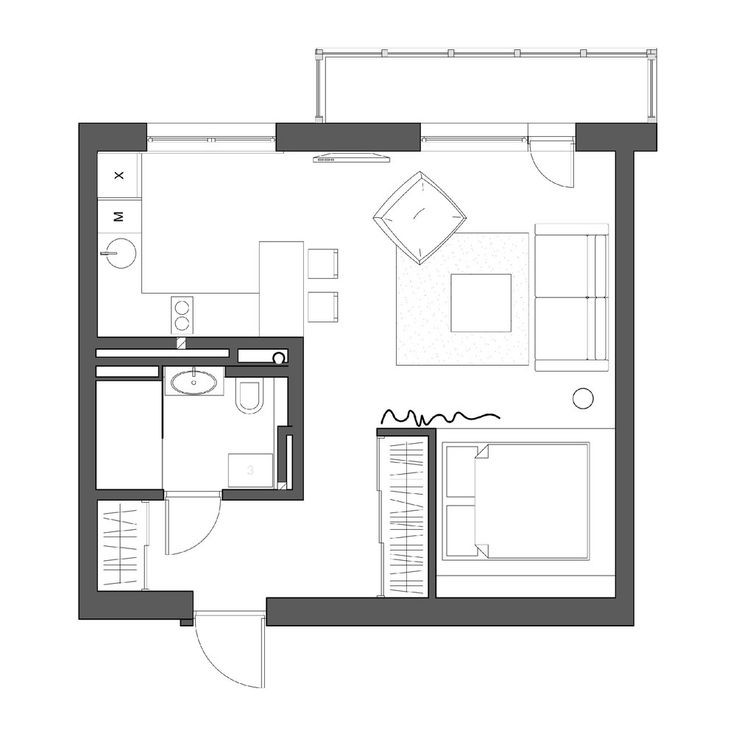door: (197, 611, 269, 687), (165, 496, 221, 556), (524, 142, 579, 190)
room: (348, 157, 608, 424), (104, 152, 344, 338), (439, 428, 619, 592), (102, 367, 290, 489)
wall: (74, 122, 103, 620), (266, 593, 639, 626), (614, 152, 639, 620), (278, 120, 426, 156), (86, 585, 193, 620), (95, 334, 303, 352), (286, 340, 304, 496), (578, 120, 662, 151), (430, 431, 439, 601), (224, 488, 306, 499), (93, 486, 167, 497), (378, 427, 441, 438)
window: (431, 120, 576, 152), (149, 124, 279, 152)
